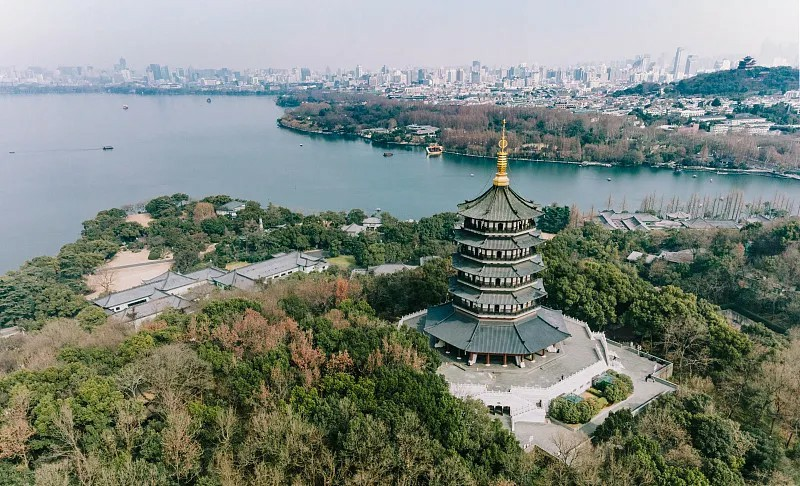Leifeng: (423, 118, 571, 367)
